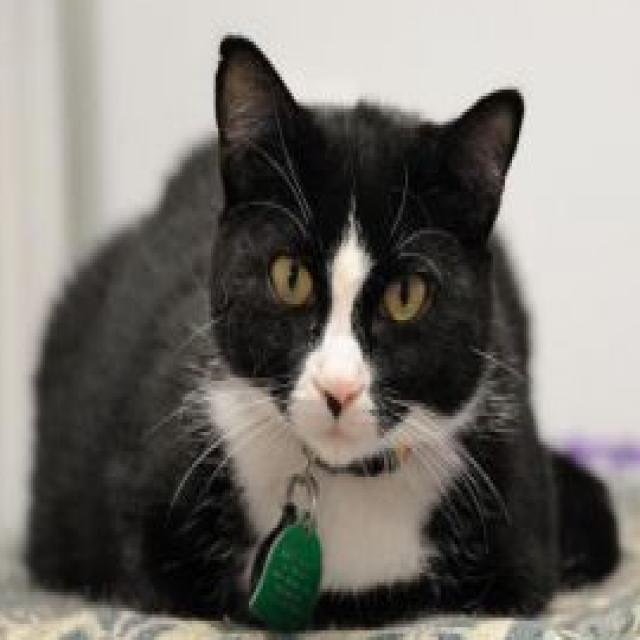Tuxedo: (24, 22, 626, 636)
